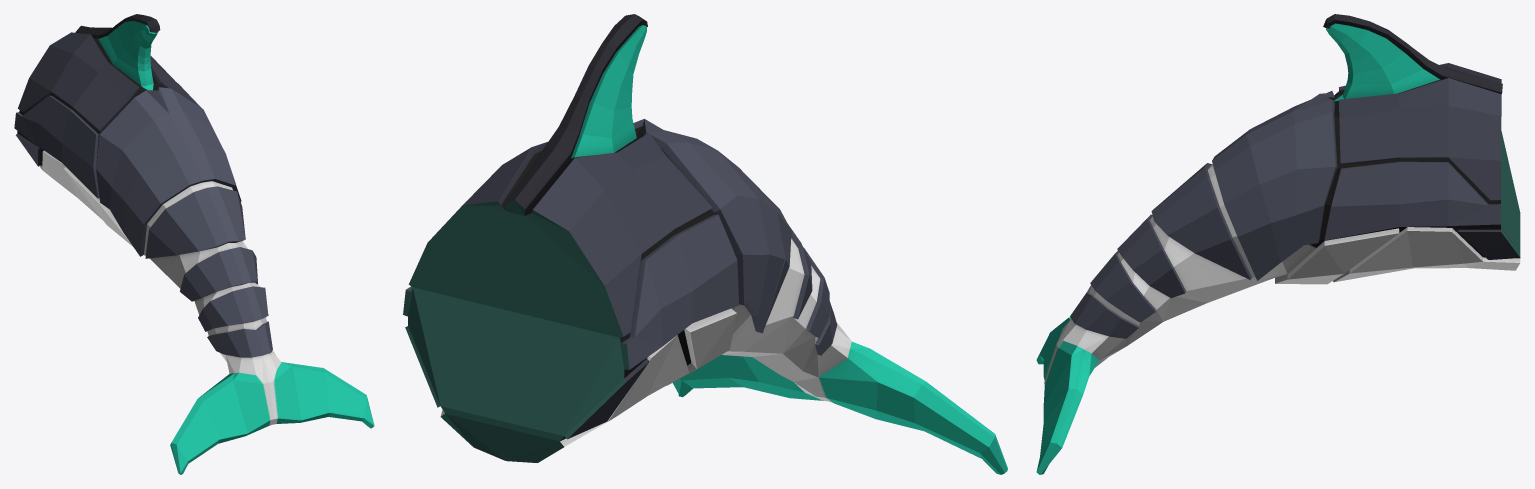
The model's file is dolphinDown.fbx.
3 renders of one model, left to right at view 1: azimuth 30°, elevation 25°; view 2: azimuth 150°, elevation 25°; view 3: azimuth 270°, elevation 25°, orthographic. The views are drawn at different scales.
Visible parts, largest first — view 1: polySurface83.001; view 2: polySurface83.001; view 3: polySurface83.001.
Boxes of the visible parts, box(x1,y1,x2,y2) form: polySurface83.001: box(14, 14, 374, 474); polySurface83.001: box(403, 14, 1007, 474); polySurface83.001: box(1036, 14, 1520, 474).
Size of the model in its own units: 130 by 217 by 235.
